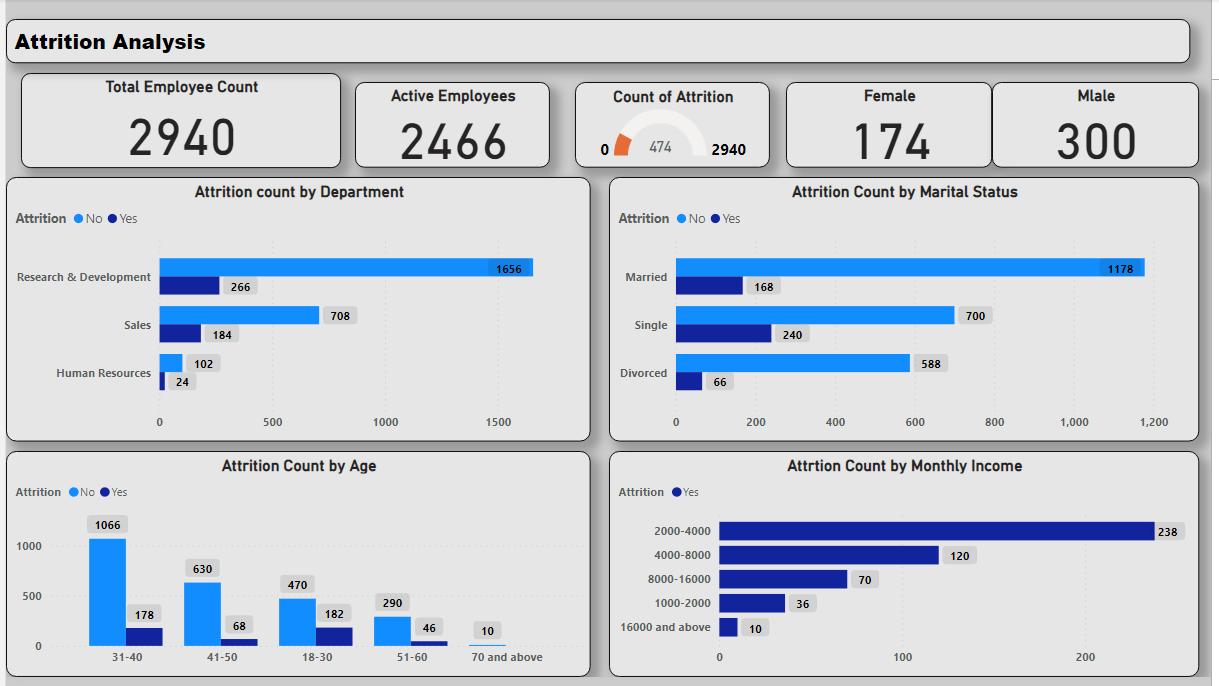

The page's visual inventory and layout, read from the dashboard file:
{"tool":"powerbi","page":{"name":"EDA","canvas":[1280,720],"ordinal":3},"visuals":[{"type":"card","title":"Total Employee Count","fields":{"Values":["HR_Employee_Attrition_Data.Total_count"]},"box":[15.9,78.6,339.9,100.9],"z":0},{"type":"card","title":"Active Employees","fields":{"Values":["CountNonNull(HR_Employee_Attrition_Data.Attrition)"]},"box":[370.7,88.2,207.1,91.4],"z":1000},{"type":"card","title":"Female","fields":{"Values":["CountNonNull(HR_Employee_Attrition_Data.Gender)"]},"box":[828.5,88.2,218.8,91.4],"z":3000},{"type":"card","title":"Mlale","fields":{"Values":["CountNonNull(HR_Employee_Attrition_Data.Gender)"]},"box":[1047.4,88.2,219.9,91.4],"z":4000},{"type":"gauge","title":"Count of Attrition","fields":{"MaxValue":["HR_Employee_Attrition_Data.Total_count"],"Y":["Sum(HR_Employee_Attrition_Data.AttritionCal)"]},"box":[604.4,88.2,207.1,91.4],"z":5000},{"type":"clusteredBarChart","title":"Attrition count by Department ","fields":{"Category":["HR_Employee_Attrition_Data.Department"],"Y":["HR_Employee_Attrition_Data.Total_count"],"Series":["Attrition.Attrition"]},"box":[0,189.1,621.4,281.5],"z":6000},{"type":"clusteredBarChart","title":"Attrition Count by Marital Status","fields":{"Category":["Attrition.MaritalStatus"],"Y":["CountNonNull(Attrition.MaritalStatus)"],"Series":["Attrition.Attrition"]},"box":[640.5,189.1,626.7,281.5],"z":7000},{"type":"clusteredColumnChart","title":"Attrition Count by Age","fields":{"Category":["HR_Employee_Attrition_Data.Age Bin"],"Y":["HR_Employee_Attrition_Data.Total_count"],"Series":["Attrition.Attrition"]},"box":[0,480,621,240],"z":8000},{"type":"clusteredBarChart","title":"Attrtion Count by Monthly Income ","fields":{"Category":["HR_Employee_Attrition_Data.MonthlyIncome(bins)"],"Series":["Attrition.Attrition"],"Y":["CountNonNull(HR_Employee_Attrition_Data.MonthlyIncome(bins))"]},"box":[640.5,480.1,626.7,240.1],"z":9000},{"type":"textbox","box":[0,21.2,1257.7,46.7],"z":10000}]}

Visuals, with their boxes in screenshot pixels (x1, y1, x2, y2), scaled from the page's 1280x720 canvas onto the 1219x686 screenshot:
"Total Employee Count" card: <region>15, 75, 339, 171</region>
"Active Employees" card: <region>353, 84, 550, 171</region>
"Female" card: <region>789, 84, 997, 171</region>
"Mlale" card: <region>997, 84, 1207, 171</region>
"Count of Attrition" gauge: <region>576, 84, 773, 171</region>
"Attrition count by Department " clusteredBarChart: <region>0, 180, 592, 448</region>
"Attrition Count by Marital Status" clusteredBarChart: <region>610, 180, 1207, 448</region>
"Attrition Count by Age" clusteredColumnChart: <region>0, 457, 591, 685</region>
"Attrtion Count by Monthly Income " clusteredBarChart: <region>610, 457, 1207, 685</region>
textbox: <region>0, 20, 1198, 65</region>
